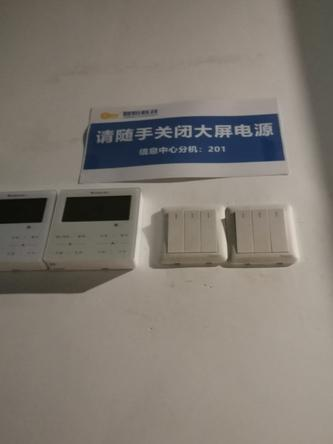switch: (267, 206, 292, 256), (251, 205, 276, 254), (181, 206, 205, 257), (232, 206, 256, 257), (197, 206, 218, 256), (165, 208, 187, 255)
